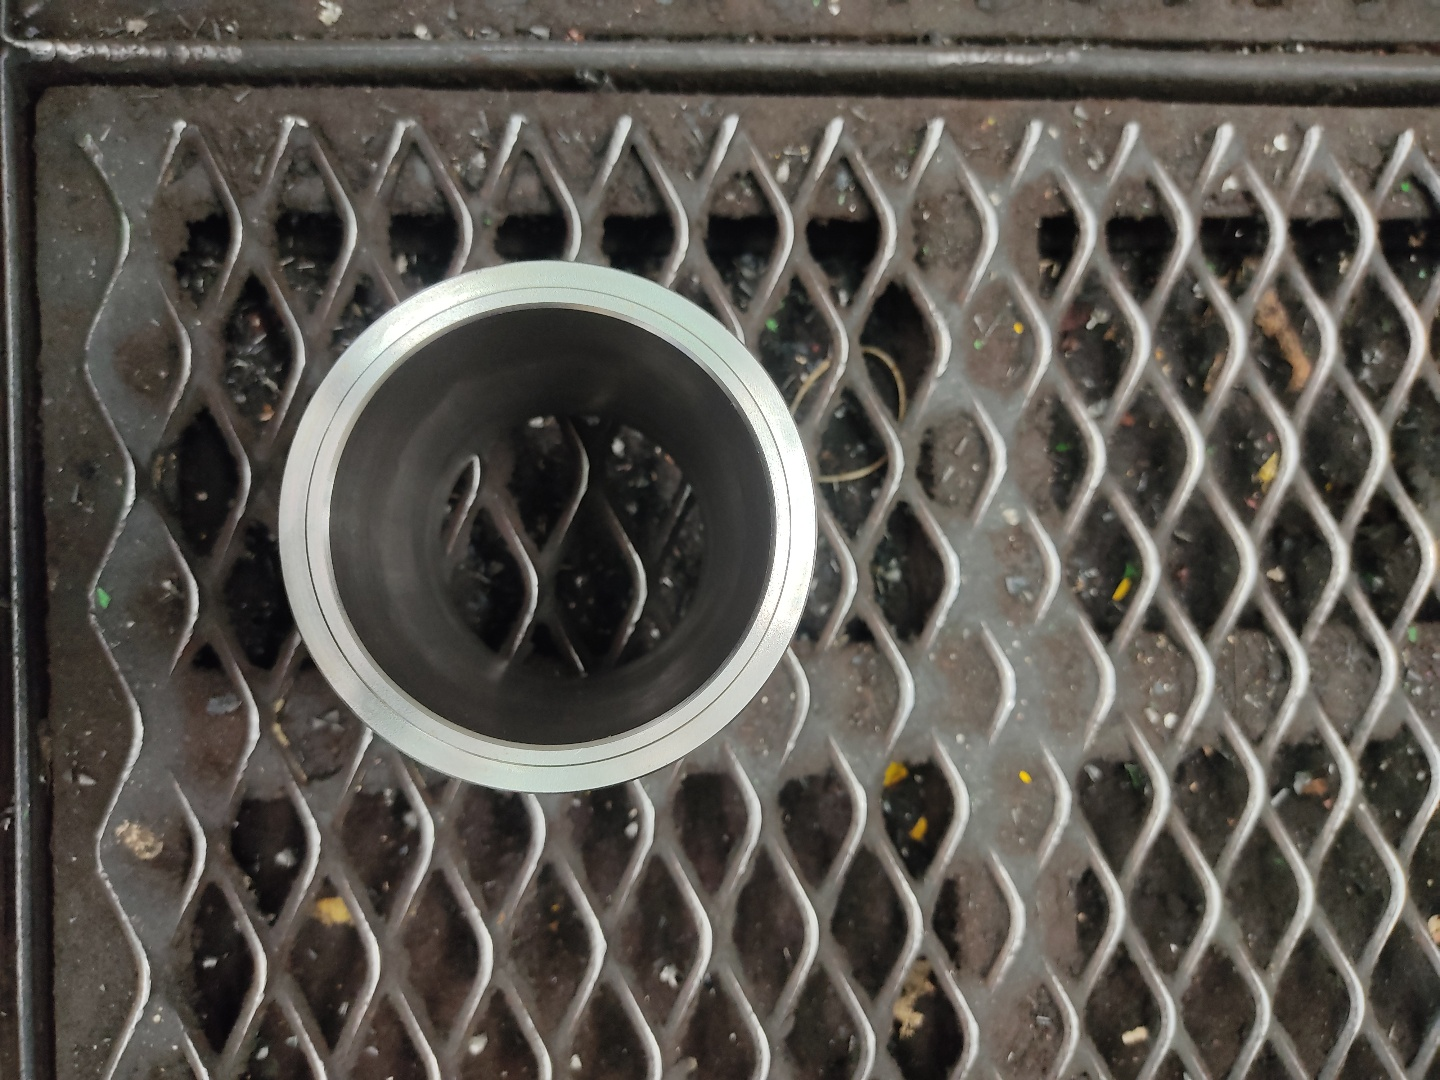cylinder: (272, 256, 824, 800)
